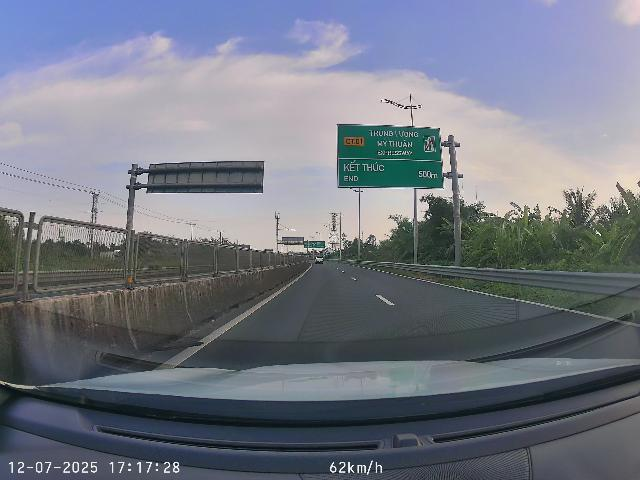438-ket-thuc-duong-cao-toc: (423, 135, 436, 152)
